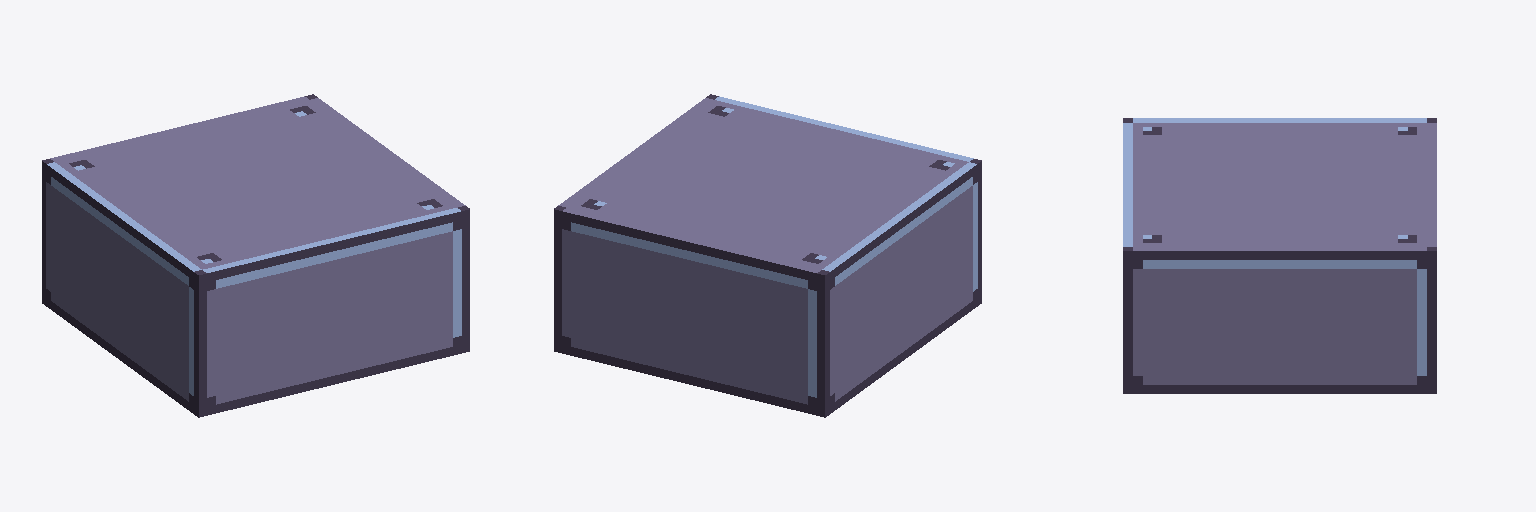
3 renders of one model, left to right at view 1: azimuth 30°, elevation 25°; view 2: azimuth 150°, elevation 25°; view 3: azimuth 270°, elevation 25°, orthographic.
Parts seen in each view (by area): view 1: MetalTile; view 2: MetalTile; view 3: MetalTile.
Boxes of the visible parts, x1,y1,x2,y2 form: MetalTile: [42, 94, 469, 417]; MetalTile: [554, 94, 981, 417]; MetalTile: [1123, 118, 1436, 393].
Bounding box in the file's own units: 1 × 0.5 × 1.
1 materials, 1 textured.